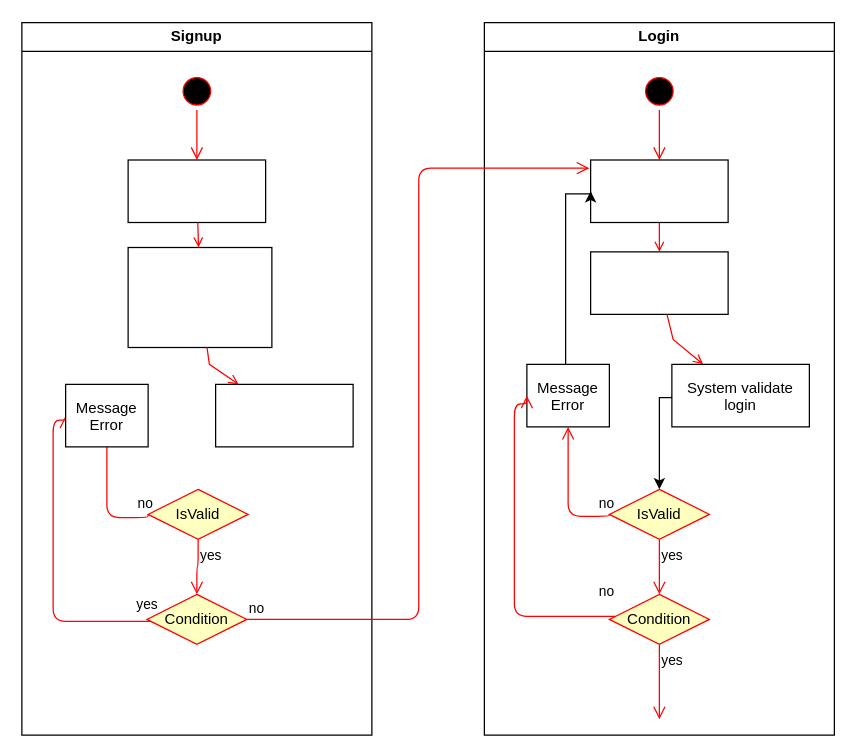
Some shapes in this 856 by 756 pixel diagram are drawn without their labels. The shapes that lost their labels are listed below. From the top down, each one's centre as x and y in pixels, then its label:
the point at 196,190: Show SignupView
the point at 658,190: Show LoginView
the point at 199,297: User writes your fullname, cpf, e-mail and passwords,
the point at 658,282: User writes your login(e-mail or cpf) and password
the point at 283,415: System validate fields
